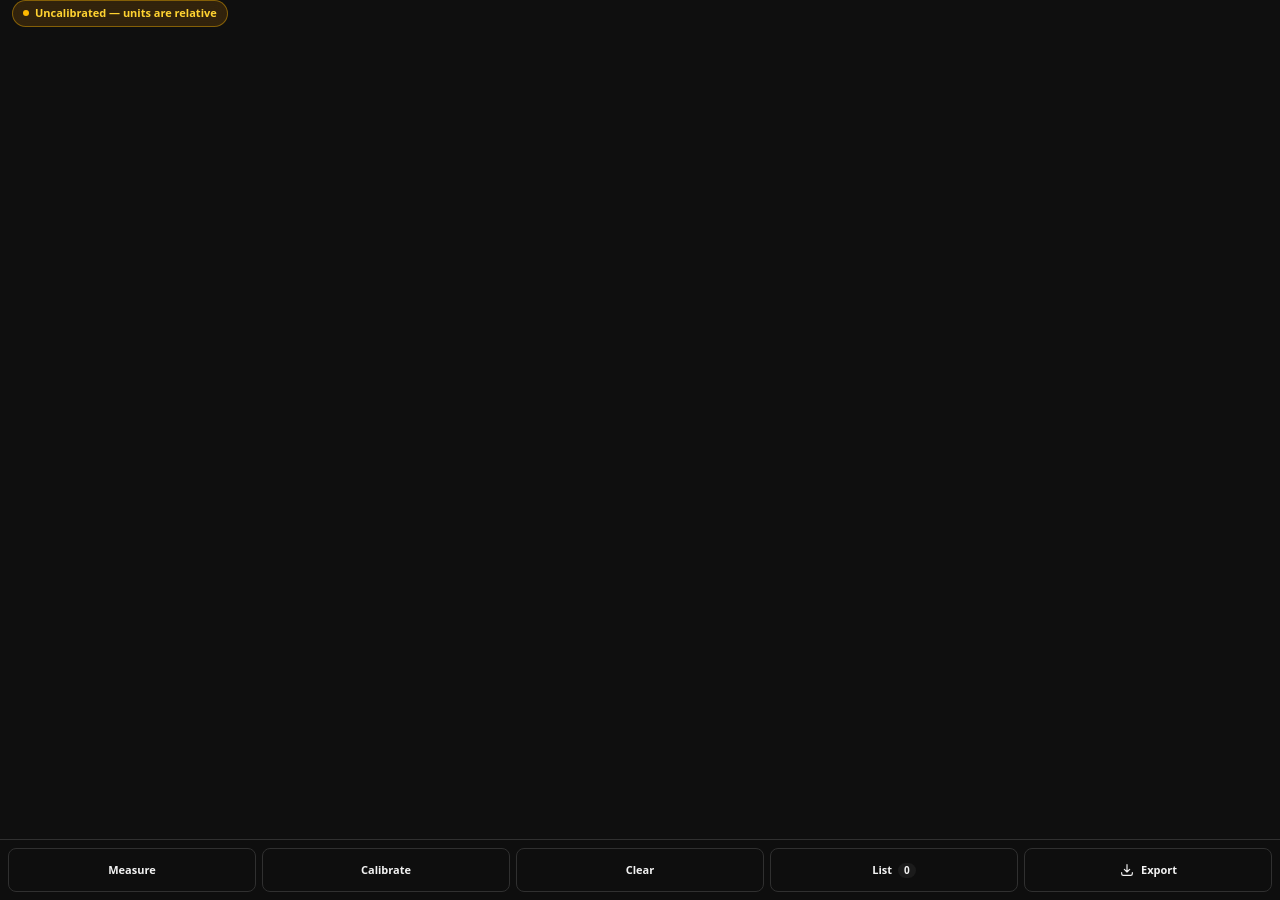
Test case: measure toolbar › coaches through the calibration picks
This screenshot has width=1280, height=900.
Click the button "Calibrate".
click(386, 870)  # box x1=262 y1=848 x2=510 y2=892
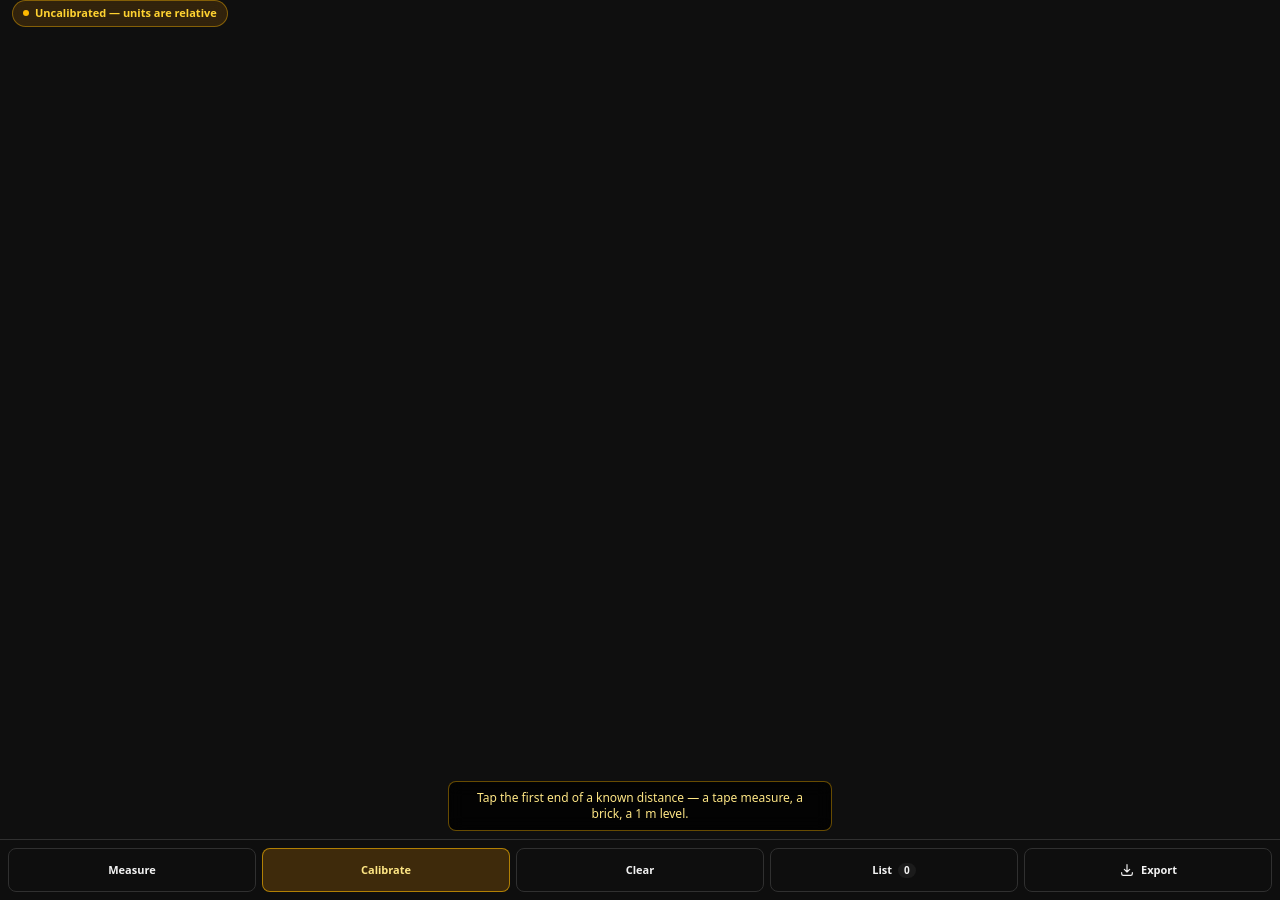
Expected: the text with test id "measure-prompt" shows "Tap the first end", x1=477 y1=789 x2=803 y2=822
